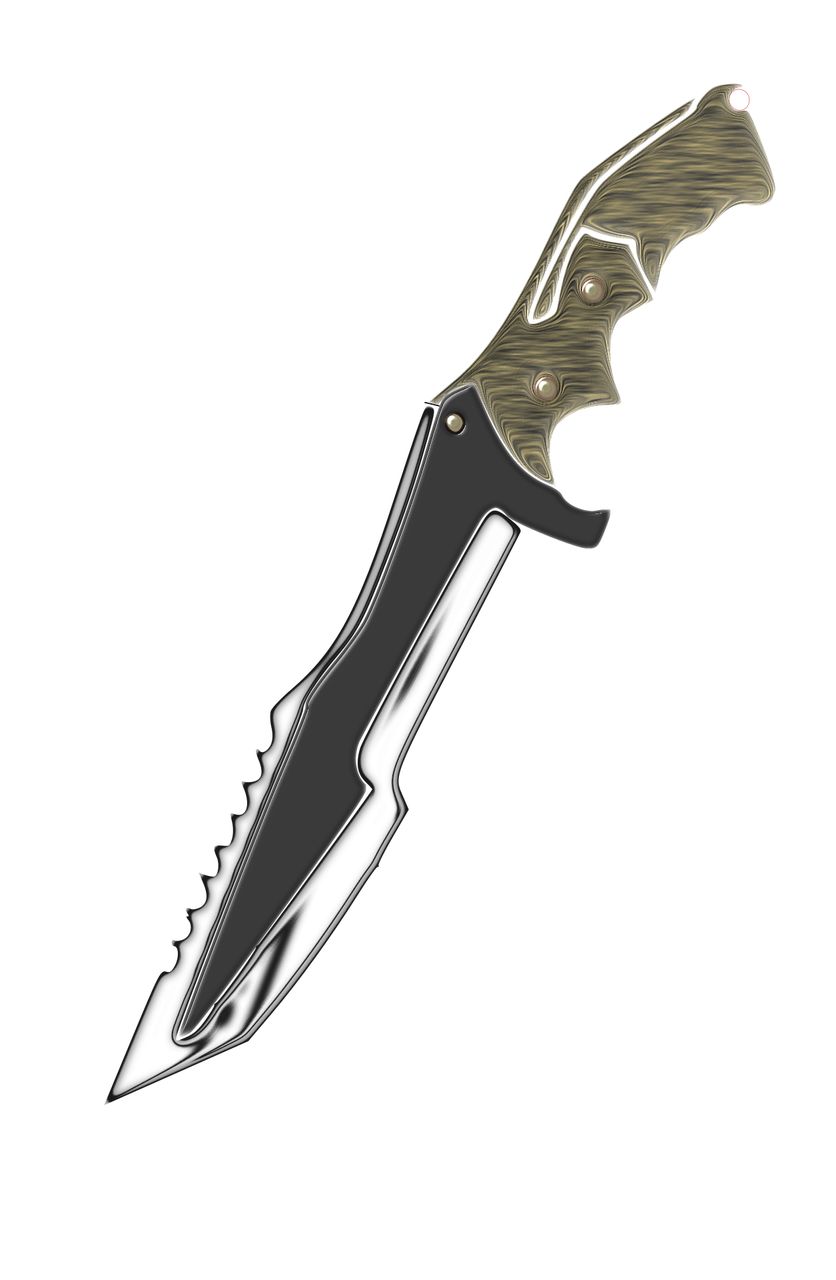knife: (103, 71, 781, 1115)
